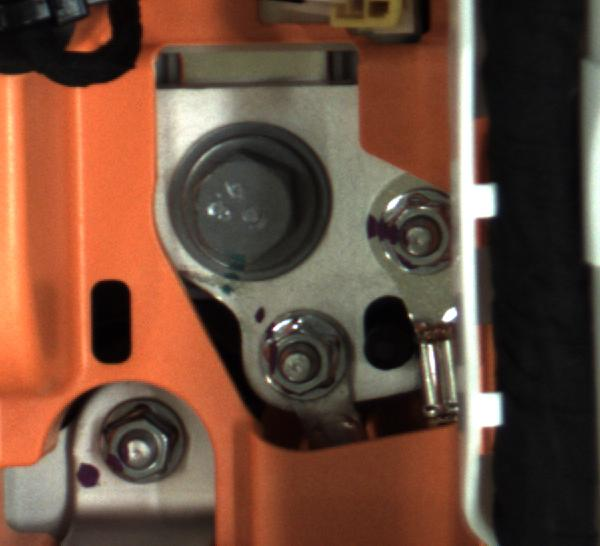nut_b: (161, 119, 341, 291)
screw_s: (259, 314, 353, 404), (97, 398, 192, 485), (374, 193, 466, 279)
